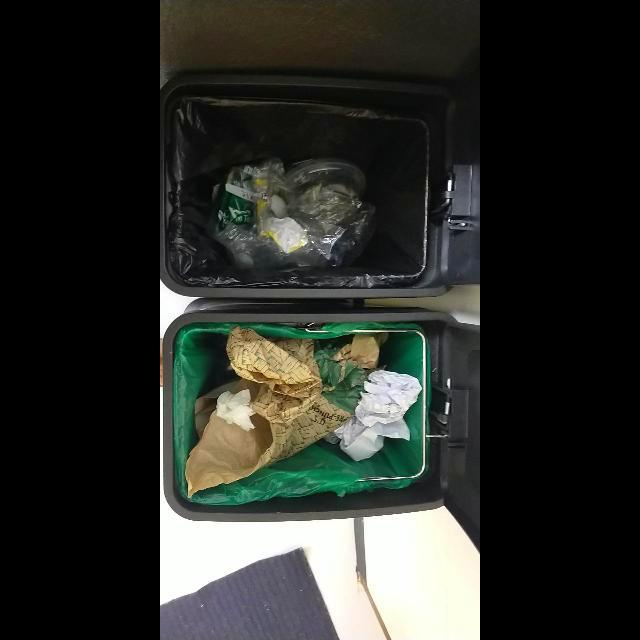paper: (185, 326, 387, 498), (356, 372, 422, 427), (333, 418, 411, 461), (216, 389, 256, 430)
plastic_bag: (208, 160, 382, 269)
